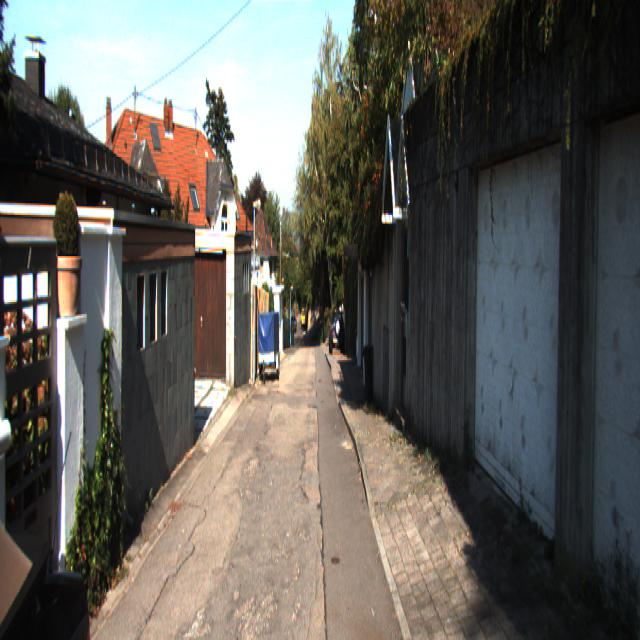Car: (0, 401, 117, 639), (258, 310, 279, 385), (328, 307, 345, 353)
